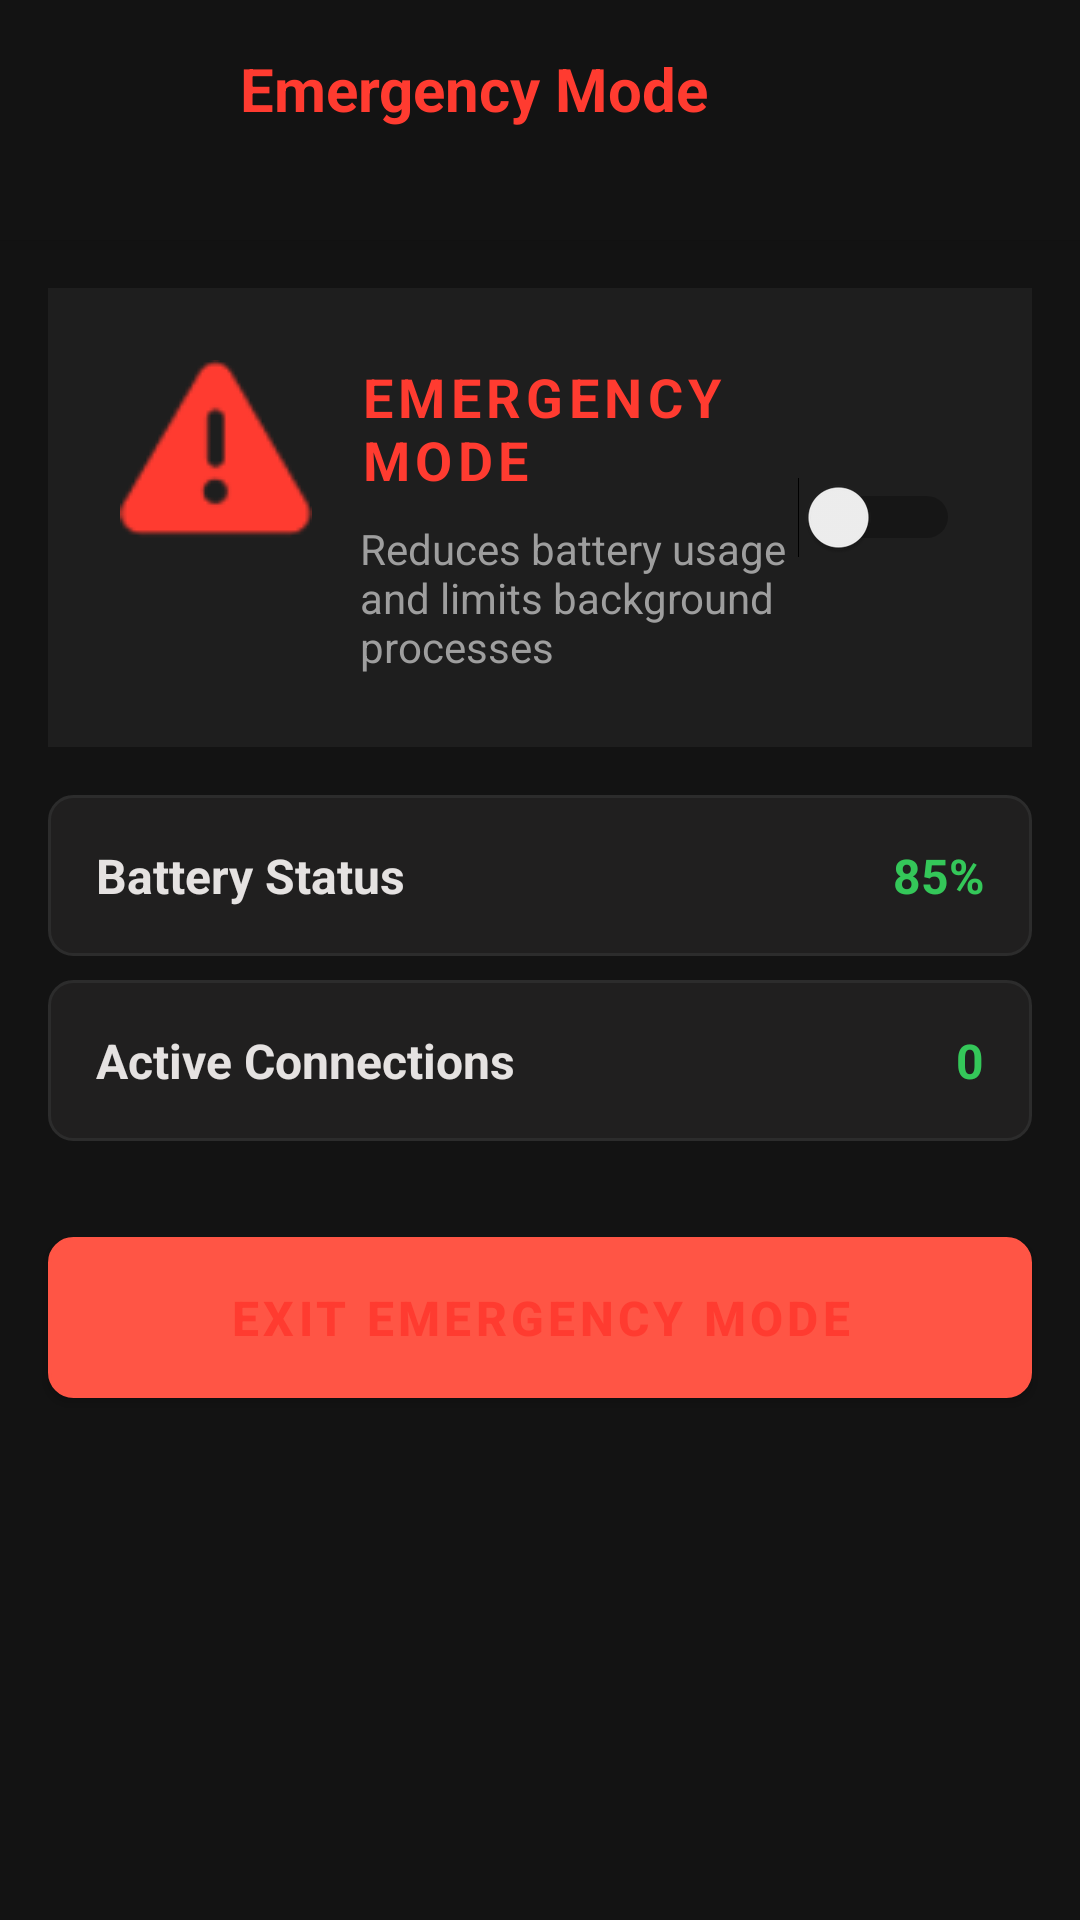

Where to tap for icons on this 1080 x 1920 app screen, as (x=x, y=y):
alert: (x=216, y=447)
